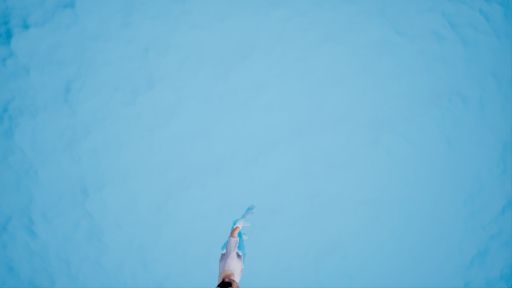person: (211, 201, 257, 277)
